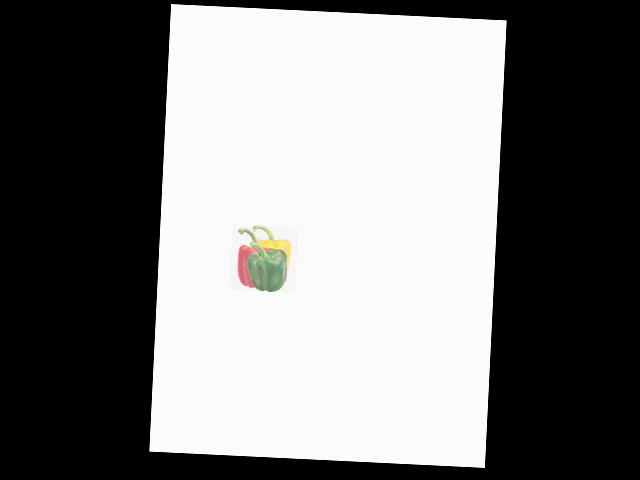bell_pepper: (228, 226, 269, 289)
